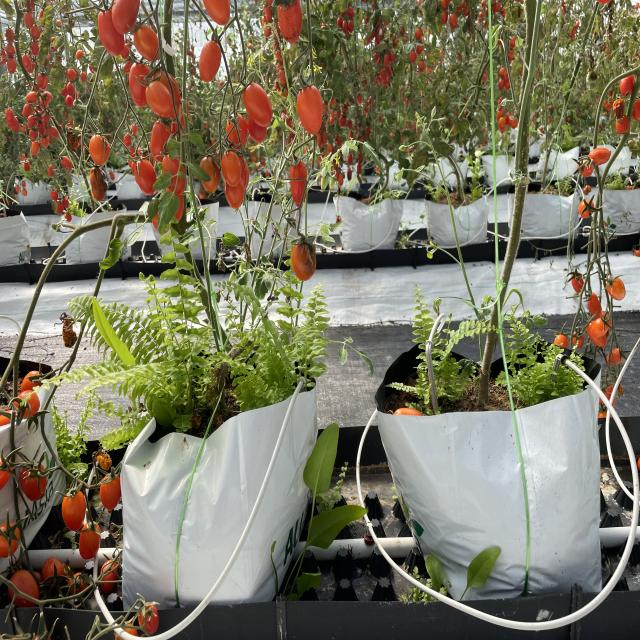Obstacle: (355, 356, 639, 629), (146, 376, 306, 640)
Soilbag: (372, 386, 604, 610), (118, 389, 319, 617)
plant: (359, 0, 622, 383), (103, 0, 313, 402)
